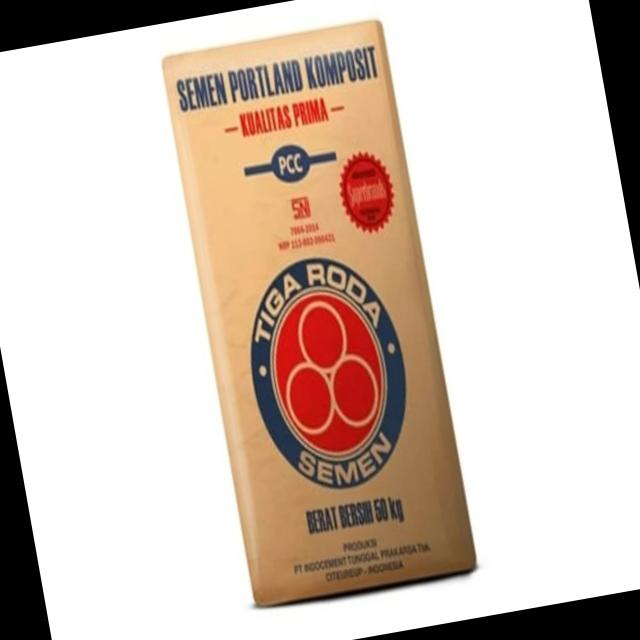KantongSemen: (156, 15, 480, 612)
